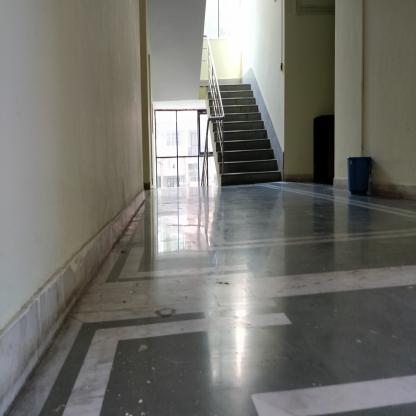stairs: (227, 83, 251, 191)
